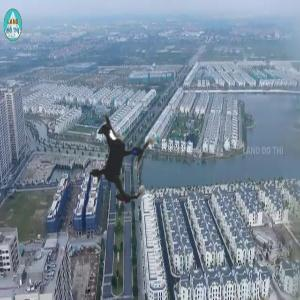drone: (51, 89, 195, 233)
